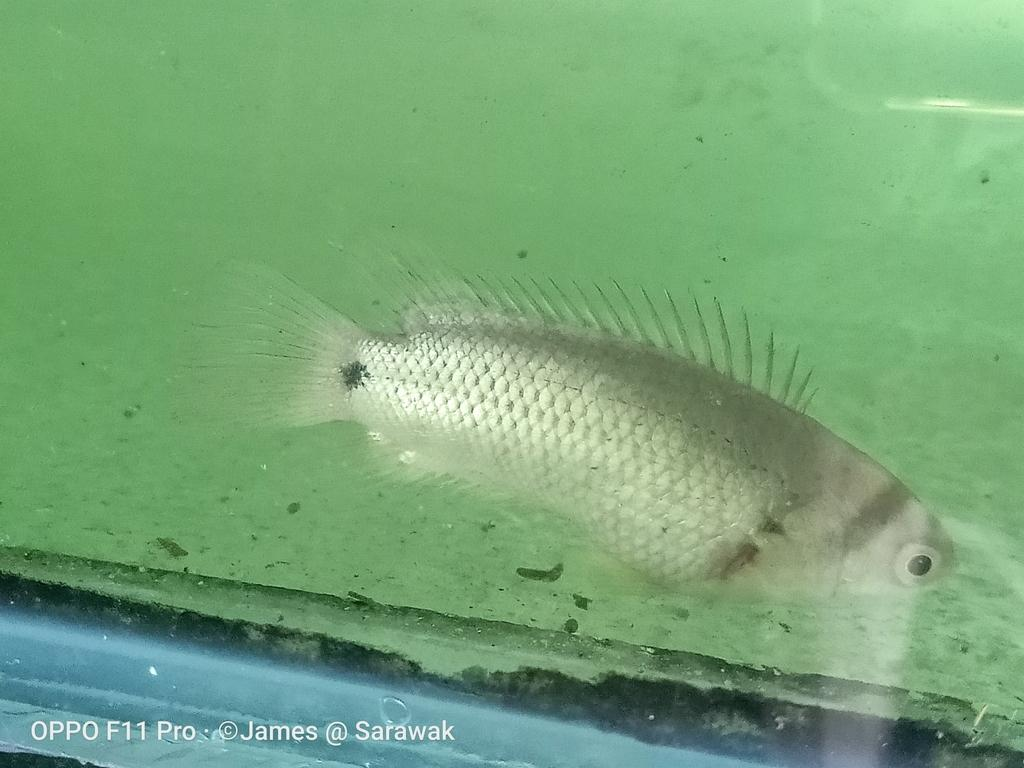Climbing Perch: (173, 240, 962, 608)
